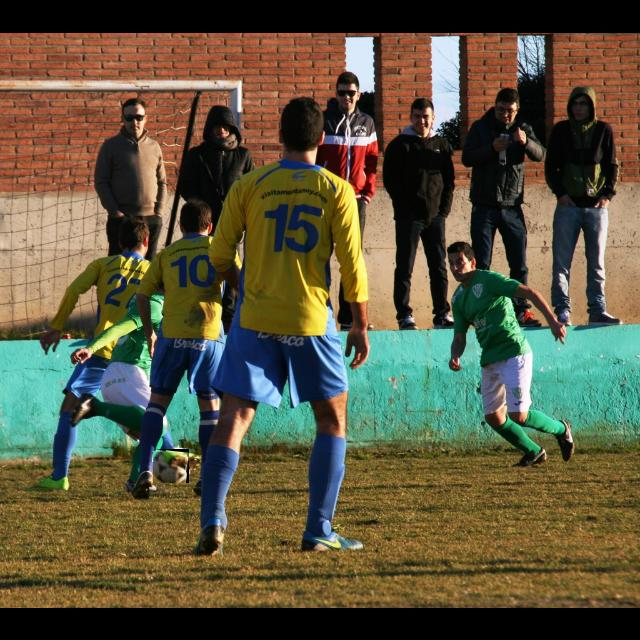Football: (153, 449, 189, 483)
